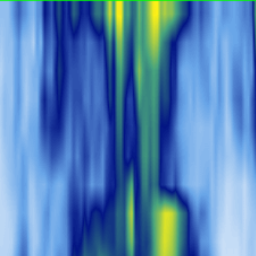defect: (138, 1, 201, 256), (103, 2, 136, 256), (43, 1, 67, 146), (70, 196, 105, 256), (67, 1, 84, 53), (89, 1, 101, 48)
